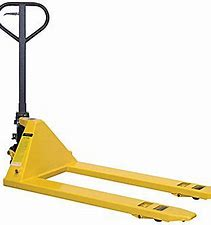Pallet Jack: (1, 2, 211, 224)
